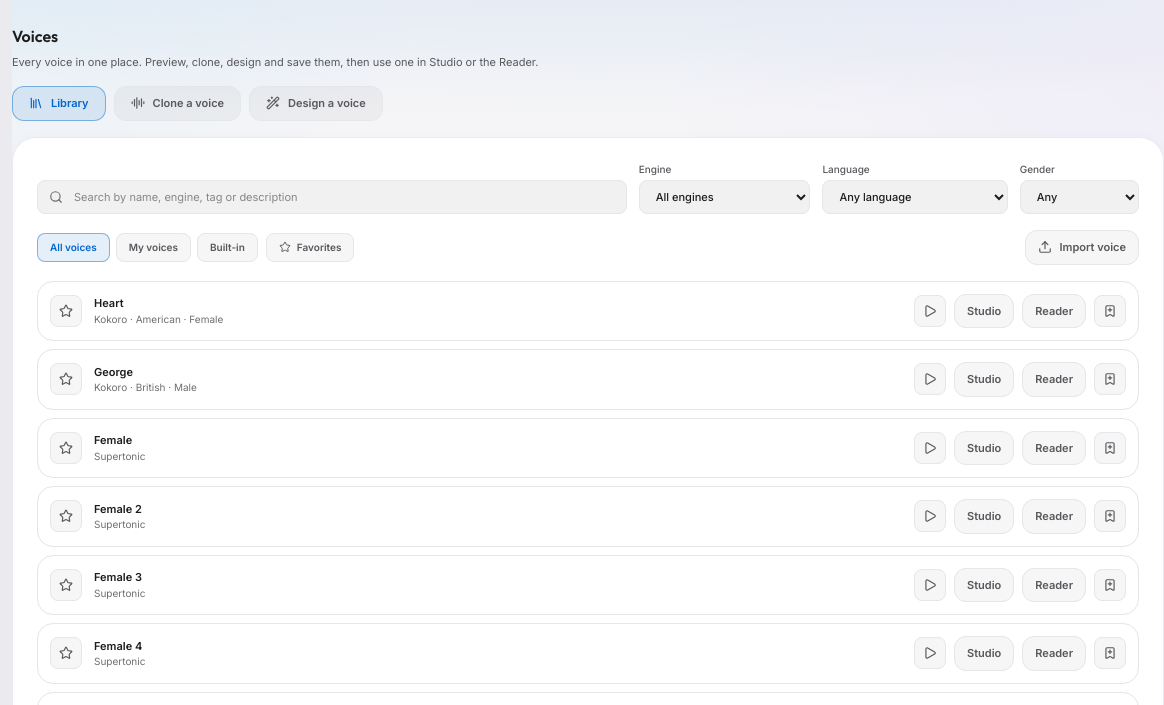
Test: VoicesRoute › lists the loaded Kokoro voices and says design needs the desktop Qwen3 model
Check: the text "George" is shown, box [94, 365, 133, 379]
Click the tab "Design a voice": (316,103) [249, 86, 383, 121]
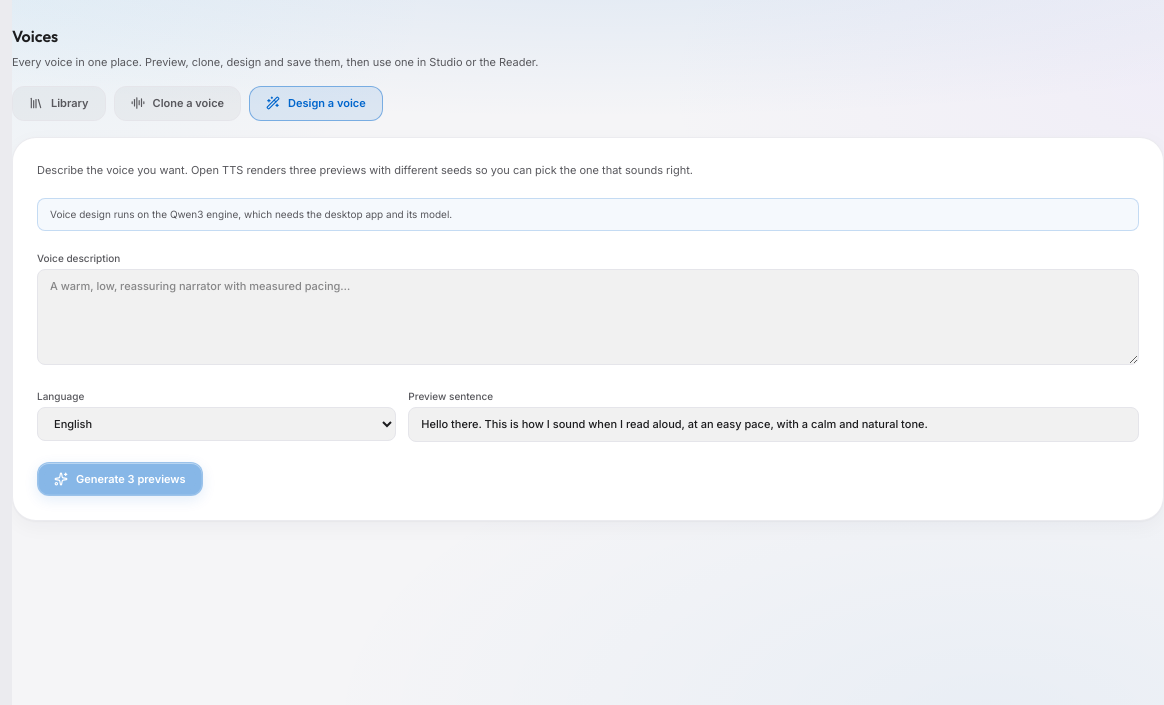
Check: the text "needs the desktop app and its model" is shown, box [50, 208, 452, 220]
